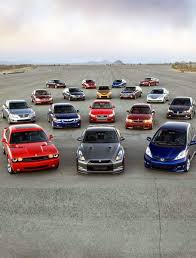car: (2, 122, 62, 181), (73, 127, 130, 184), (145, 122, 194, 176), (5, 93, 38, 129), (50, 99, 82, 134), (126, 100, 157, 133), (165, 92, 196, 125), (89, 97, 115, 125), (145, 87, 171, 110), (59, 86, 84, 103), (28, 89, 52, 106), (122, 85, 144, 103), (40, 79, 70, 92), (92, 84, 113, 102), (74, 78, 97, 91), (108, 77, 129, 90), (143, 72, 162, 86)
